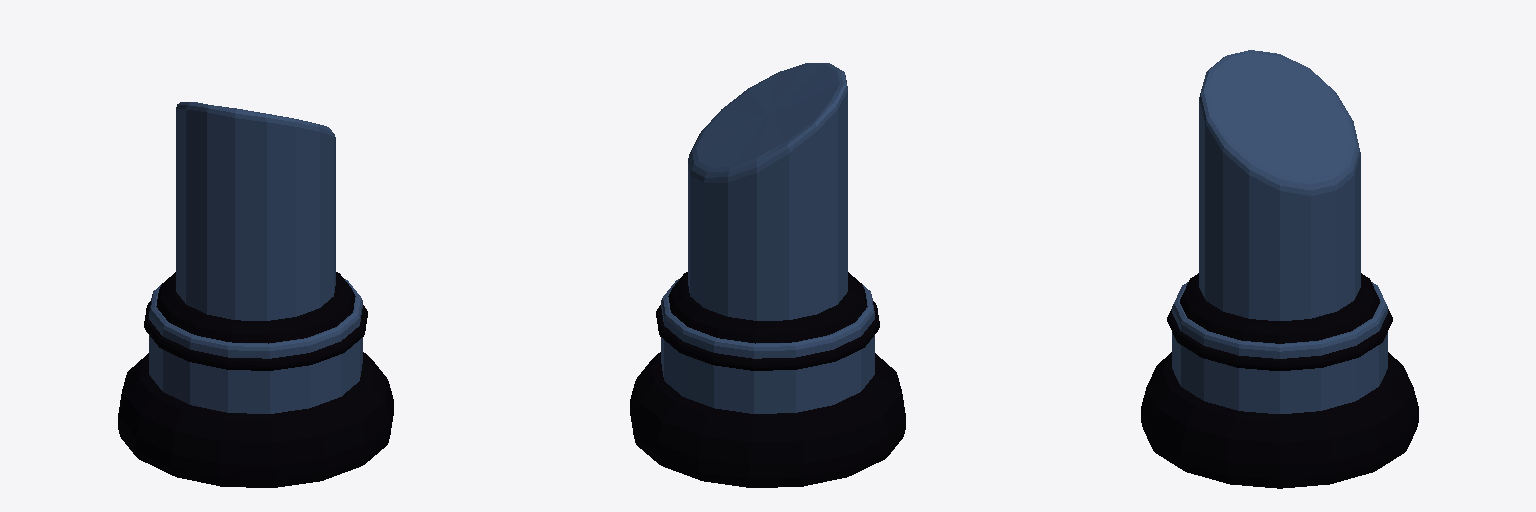
The model's file is column-4.obj.
The picture shows the model from 3 angles: view 1: azimuth 30°, elevation 25°; view 2: azimuth 150°, elevation 25°; view 3: azimuth 270°, elevation 25°; orthographic projection.
Parts seen in each view (by area): view 1: Cylinder_Cylinder.005, Cylinder.003_Cylinder.004, Cylinder.004_Cylinder, Cylinder.001, Cylinder.002; view 2: Cylinder_Cylinder.005, Cylinder.003_Cylinder.004, Cylinder.004_Cylinder, Cylinder.001, Cylinder.002; view 3: Cylinder_Cylinder.005, Cylinder.003_Cylinder.004, Cylinder.004_Cylinder, Cylinder.001, Cylinder.002.
Boxes of the visible parts, <box> form: Cylinder_Cylinder.005: <box>176,102,335,320</box>; Cylinder.003_Cylinder.004: <box>118,352,393,487</box>; Cylinder.004_Cylinder: <box>149,279,362,413</box>; Cylinder.001: <box>156,272,355,343</box>; Cylinder.002: <box>144,301,367,370</box>; Cylinder_Cylinder.005: <box>688,63,847,320</box>; Cylinder.003_Cylinder.004: <box>630,352,905,487</box>; Cylinder.004_Cylinder: <box>661,279,874,413</box>; Cylinder.001: <box>668,272,867,343</box>; Cylinder.002: <box>656,301,879,370</box>; Cylinder_Cylinder.005: <box>1199,50,1360,320</box>; Cylinder.003_Cylinder.004: <box>1141,352,1418,488</box>; Cylinder.004_Cylinder: <box>1172,282,1387,413</box>; Cylinder.001: <box>1180,273,1379,343</box>; Cylinder.002: <box>1167,309,1392,370</box>.
Size of the model in its own units: 1.03 by 1.46 by 1.03.